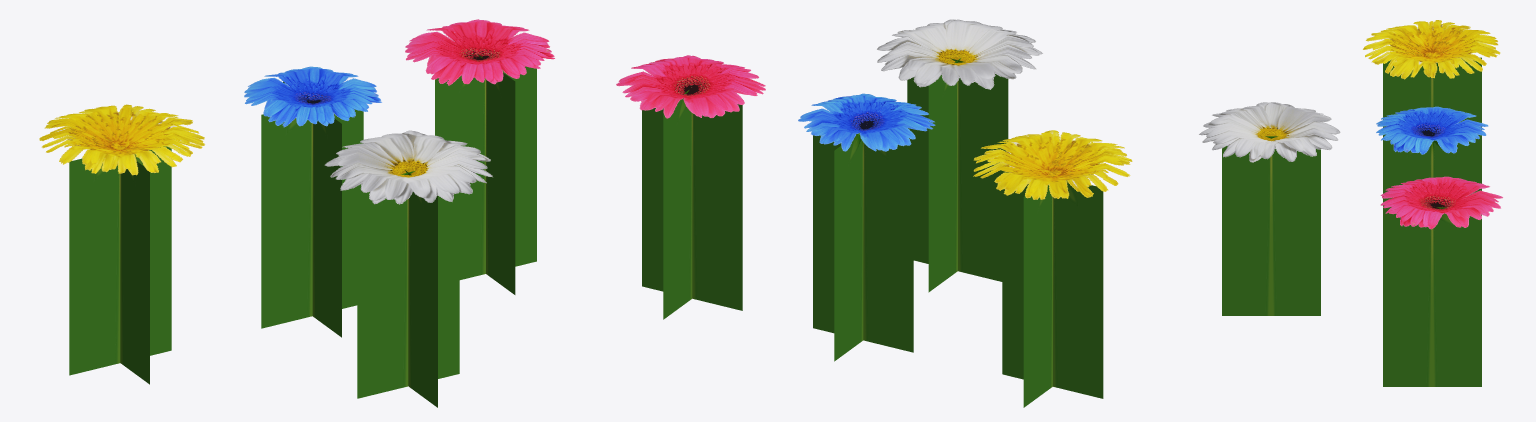
File: flowers.fbx
3 views of the same model, side by side, from view 1: azimuth 30°, elevation 25°; view 2: azimuth 150°, elevation 25°; view 3: azimuth 270°, elevation 25° (orthographic). The views are drawn at different scales.
Visible parts, largest first — view 1: stem_1_6, stem_1_9, stem_1_3, stem_12, stem_1_12, flower1_3, flower1_2, stem_4, flower1, stem_1_11, stem_1_8, stem_1 (+8 smaller); view 2: stem_1_3, stem_1_6, stem_1_12, stem_1_9, stem_16, stem_12, flower1_3, stem_8, flower1_2, flower1, stem_1, stem_4 (+8 smaller); view 3: stem_1_11, stem_1_8, stem_10, stem_14, flower1_3, flower1_2, flower1, stem_1_5, flower1_1, stem_1, stem_6, stem_2.
Boxes of the visible parts, x1,y1,x2,y2 form: stem_1_6: (69,146,171,375); stem_1_9: (357,170,459,398); stem_1_3: (261,109,363,328); stem_12: (357,172,459,398); stem_1_12: (435,66,536,279); flower1_3: (324,130,492,204); flower1_2: (39,104,204,175); stem_4: (261,110,363,327); flower1: (405,19,554,85); stem_1_11: (477,54,515,294); stem_1_8: (405,170,437,407); stem_1: (283,82,341,337); stem_1_3: (813,134,913,352); stem_1_6: (1002,171,1103,398); stem_1_12: (642,104,742,310); stem_1_9: (907,58,1008,281); stem_16: (642,105,742,309); stem_12: (907,59,1008,281); flower1_3: (877,19,1042,89); stem_8: (1002,171,1103,398); flower1_2: (973,130,1132,199); flower1: (616,55,765,118); stem_1: (834,133,863,361); stem_4: (813,136,913,351); stem_1_11: (1383,207,1481,386); stem_1_8: (1222,136,1320,315); stem_10: (1222,136,1320,315); stem_14: (1383,207,1481,386); flower1_3: (1199,102,1340,162); flower1_2: (1363,20,1500,79); flower1: (1380,176,1502,229); stem_1_5: (1383,57,1481,136); flower1_1: (1376,106,1488,154); stem_1: (1383,136,1481,206); stem_6: (1383,58,1481,135); stem_2: (1383,136,1481,207).
Bounding box in the file's own units: 54.91 × 21.61 × 33.84.
5 materials, 5 textured.
